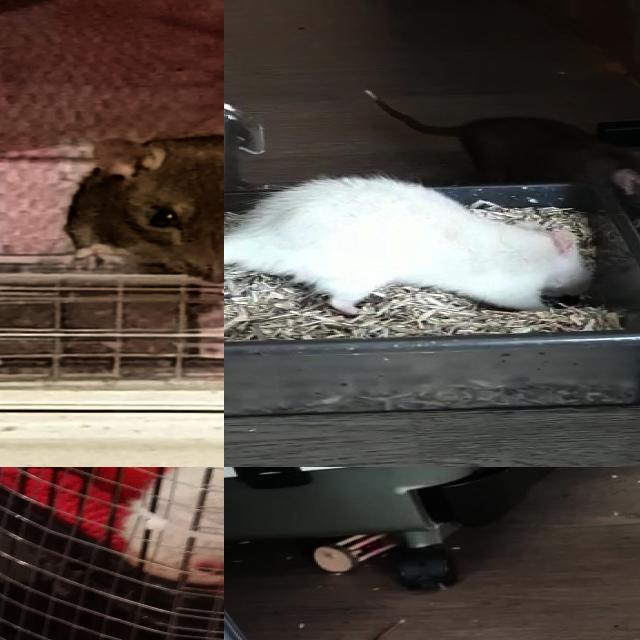rat: (236, 176, 594, 312), (68, 135, 224, 282), (455, 114, 640, 232), (121, 467, 224, 587)
